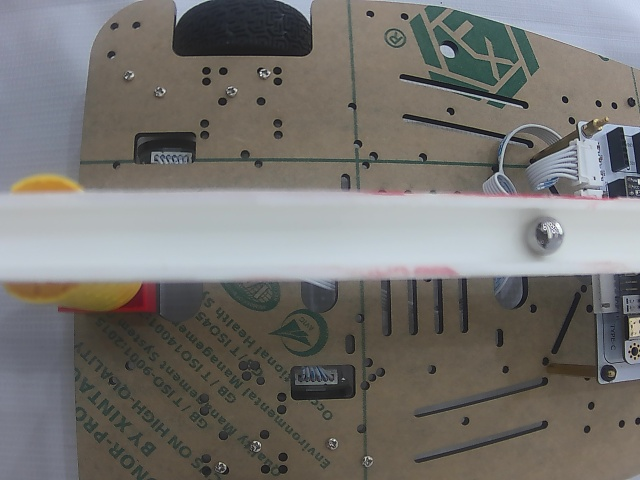steelball: (523, 215, 564, 256)
